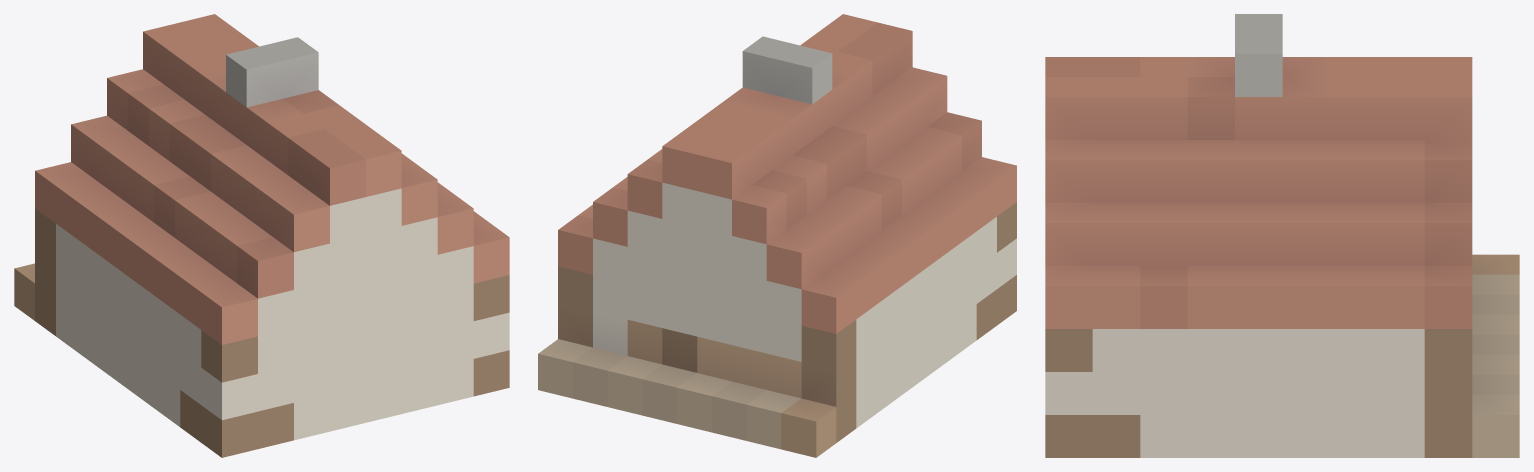
Rendered from dairy_farm.lite.glb.
The picture shows the model from 3 angles, left to right: view 1: azimuth 30°, elevation 25°; view 2: azimuth 150°, elevation 25°; view 3: azimuth 270°, elevation 25°; orthographic projection. The views are drawn at different scales.
Parts seen in each view (by area): view 1: dairy_farm; view 2: dairy_farm; view 3: dairy_farm.
Part boxes in pixels (left/top/right/bottom): dairy_farm: left=14, top=14, right=509, bottom=457; dairy_farm: left=538, top=14, right=1016, bottom=457; dairy_farm: left=1045, top=14, right=1519, bottom=457.
Bounding box in the file's own units: 4 × 4 × 5.
